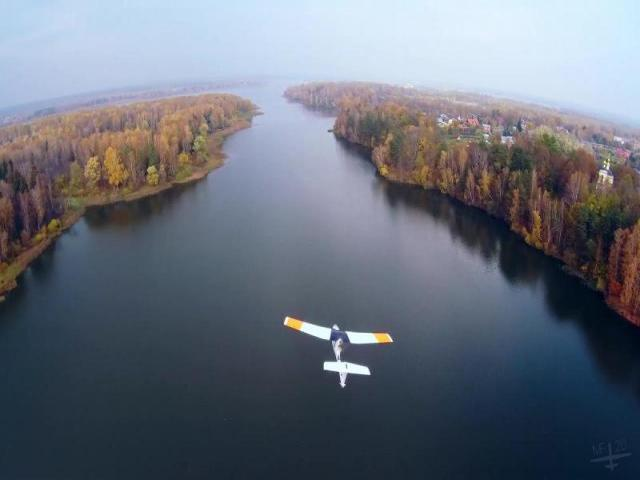hedef: (283, 308, 392, 384)
